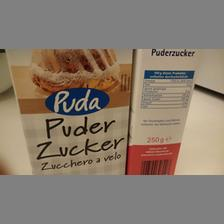Zucker: (3, 48, 131, 172), (125, 47, 198, 172)
